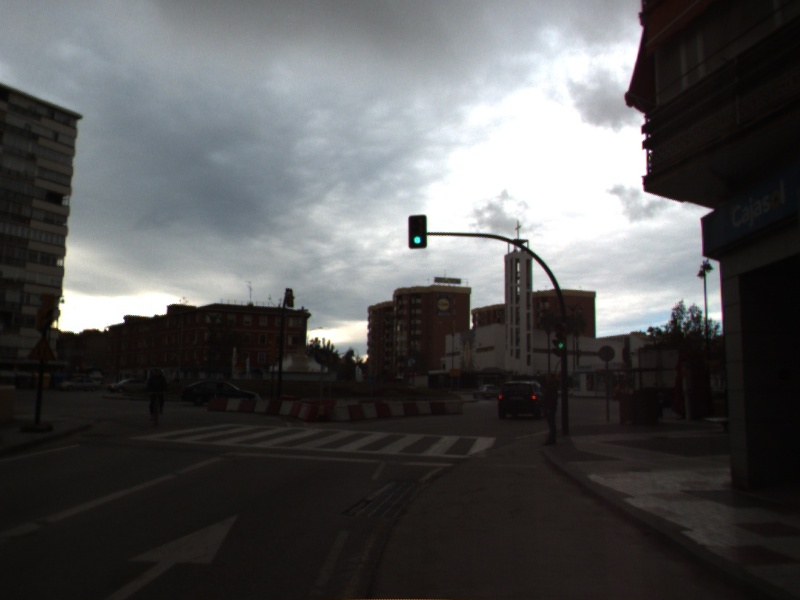STRAIGHT: (104, 511, 242, 600)
